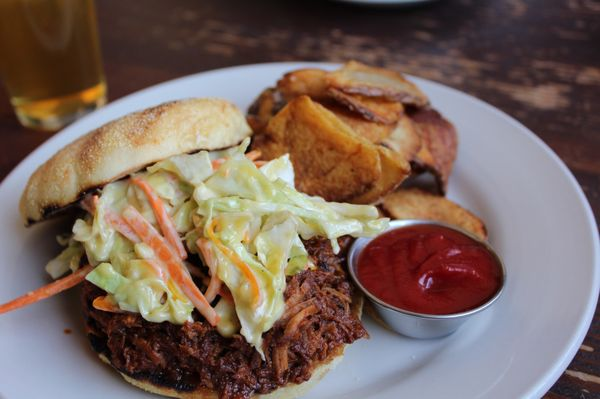pizza: (0, 1, 109, 133)
soup: (11, 96, 376, 396)
sushi: (348, 221, 506, 341)
